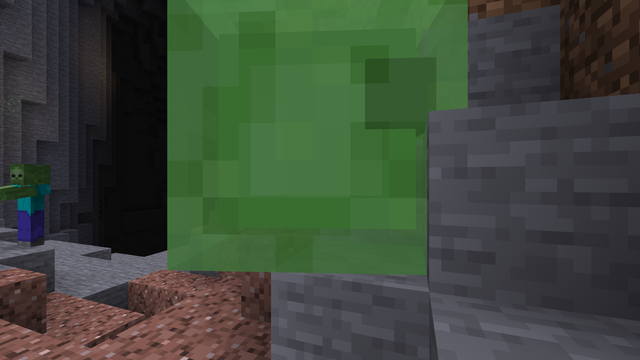slimes: (156, 3, 437, 295)
zombies: (6, 165, 53, 248)
